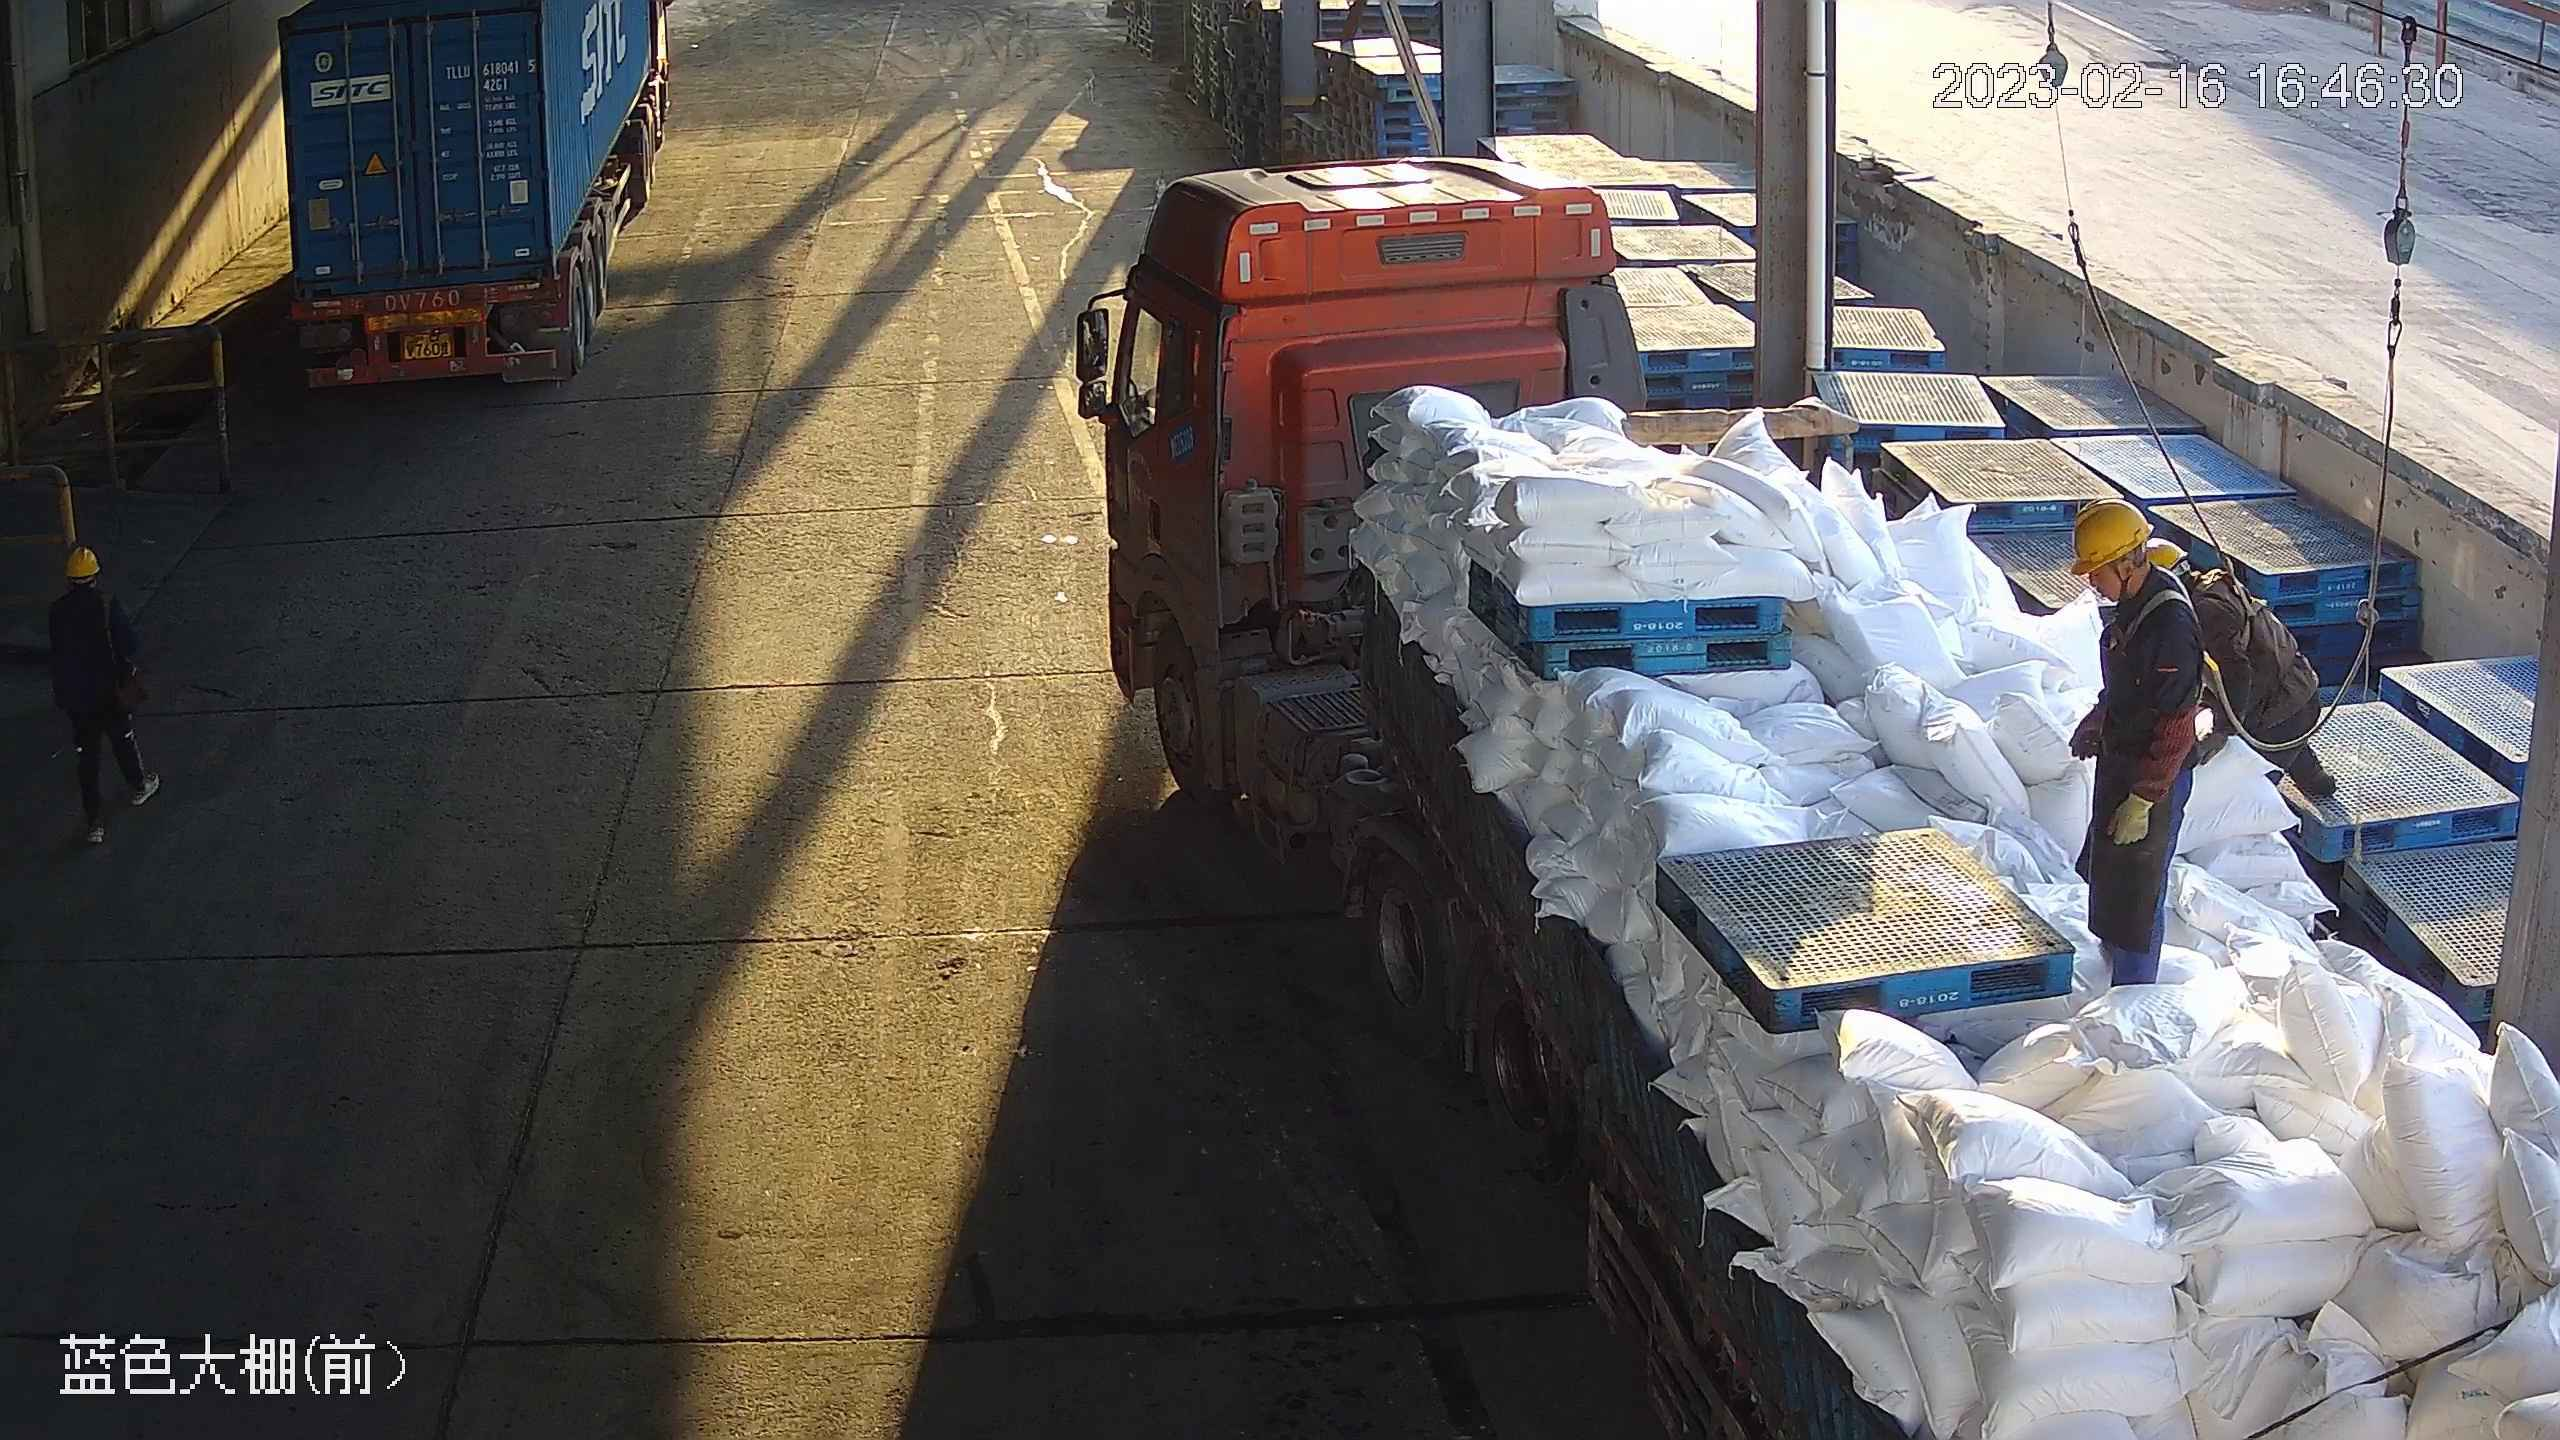belt: (2125, 564, 2221, 681), (2206, 565, 2273, 659)
head: (2063, 499, 2204, 677), (51, 540, 132, 644)
helmet: (2071, 502, 2153, 573), (66, 549, 101, 580)
people: (2065, 499, 2203, 1011), (2146, 537, 2340, 801), (53, 542, 166, 856)
truck: (1070, 152, 2560, 1440), (268, 1, 671, 401)
